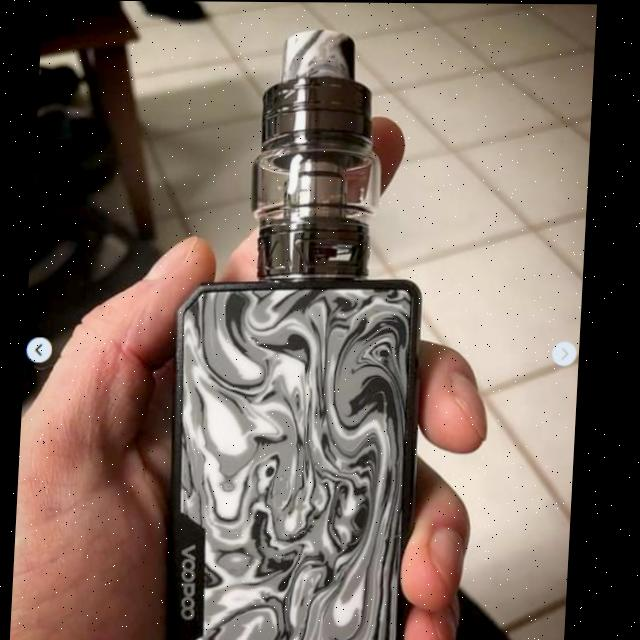vape: (165, 26, 440, 640)
